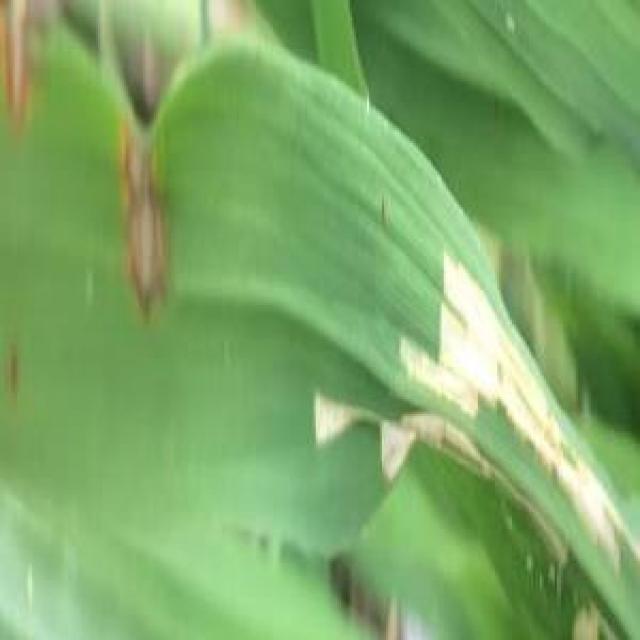Blast: (120, 134, 170, 305), (2, 28, 30, 116)
